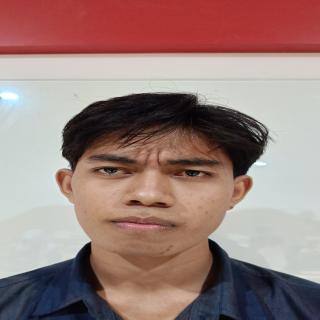Marah: (68, 120, 244, 262)
